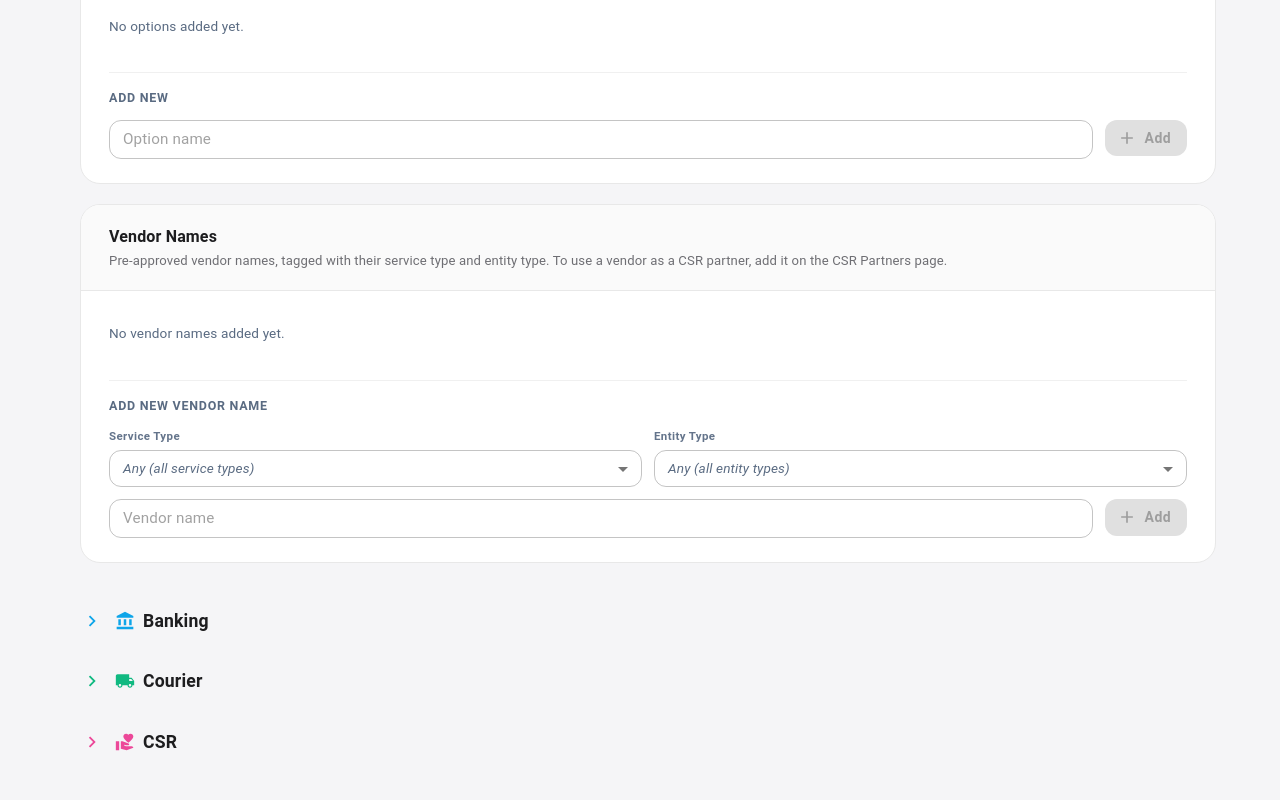
it: deleting an option deletes only that row, not one another admin added
(page scrolled)
Click the text "Banking": click(176, 621) [143,608,209,634]
(page scrolled)
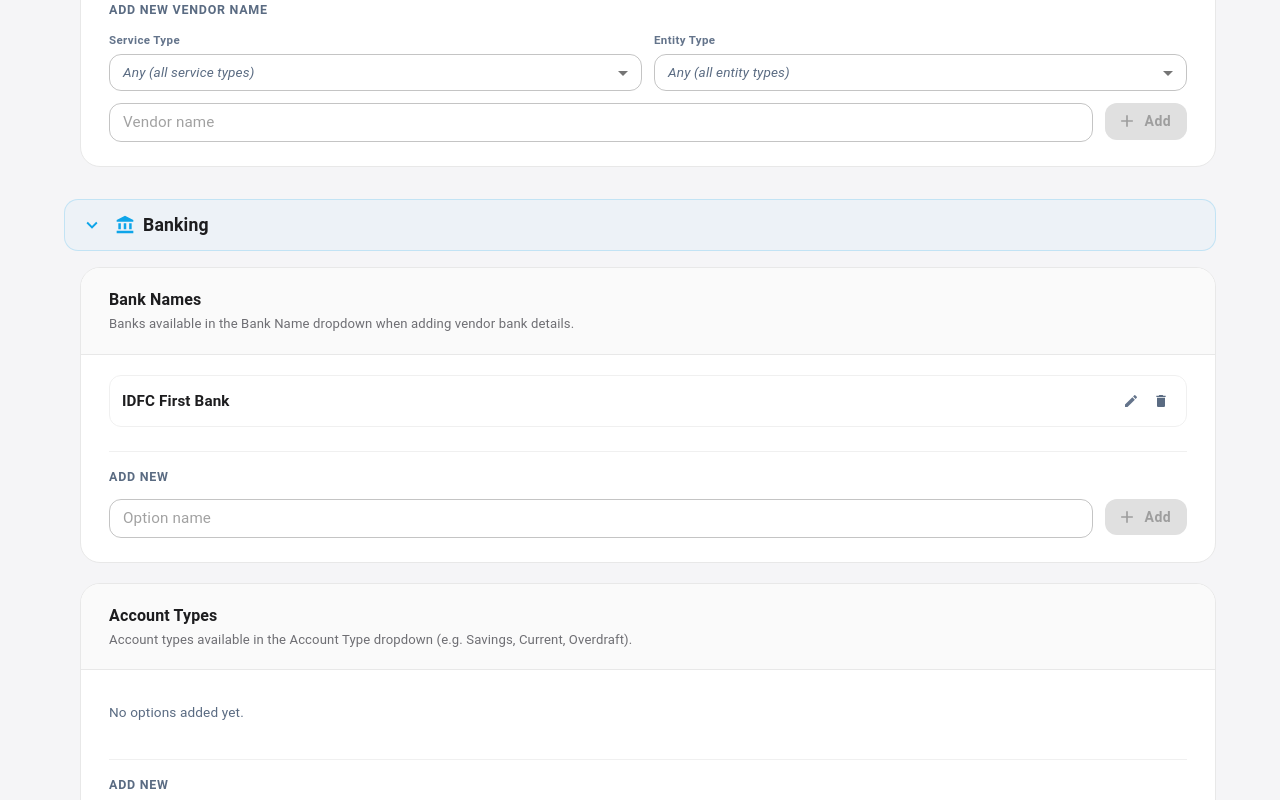
Now the text "IDFC First Bank" is shown, box [122,390,230,412]
Click the button named "Delete": click(1161, 401) [1148,388,1174,414]
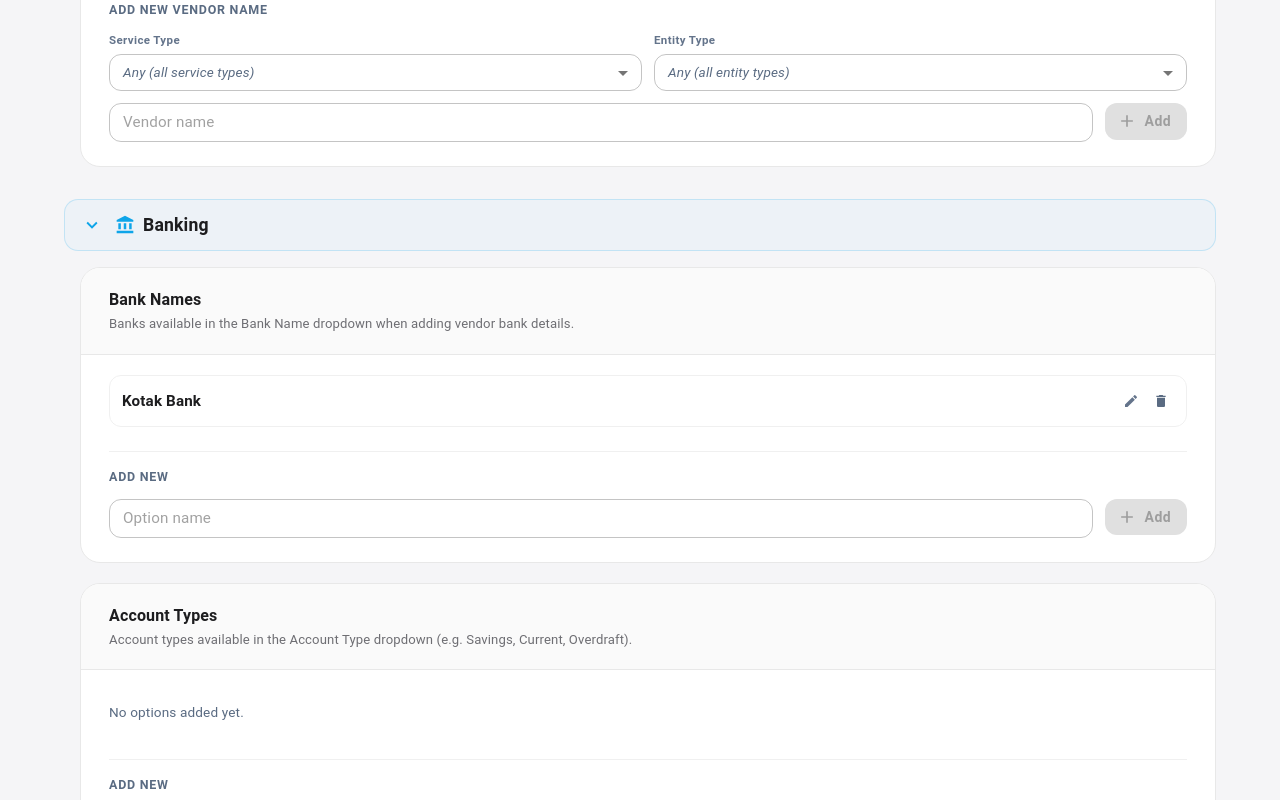
Now the text "Kotak Bank" is shown, box [122,390,201,412]
Now the text "IDFC First Bank" is gone
